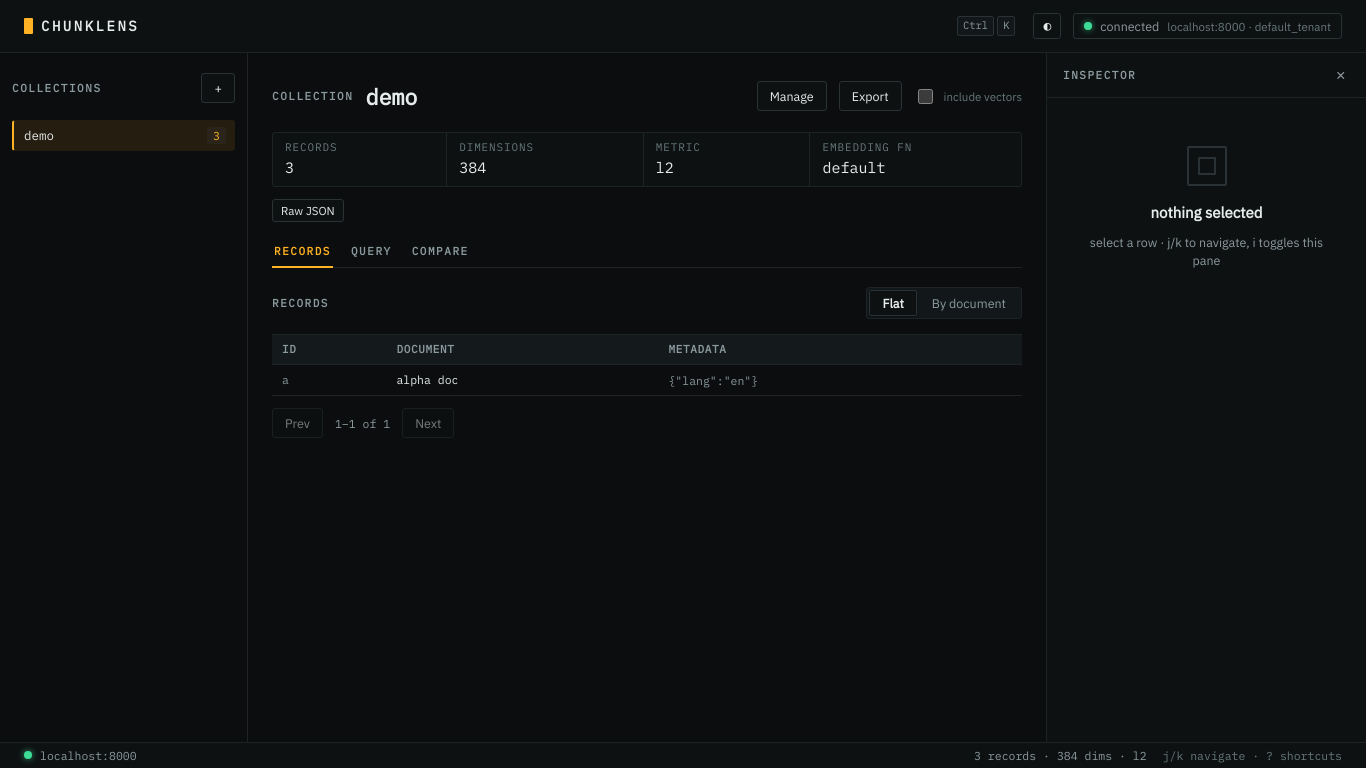
Scenario: switching the connection clears caches and returns home
This screenshot has width=1366, height=768.
Expected: the heading "demo" is shown, [365,80,417,113]
Click the button "connected localhost:8000 · default_tenant" at (1208, 26), box [1073,13,1342,39]
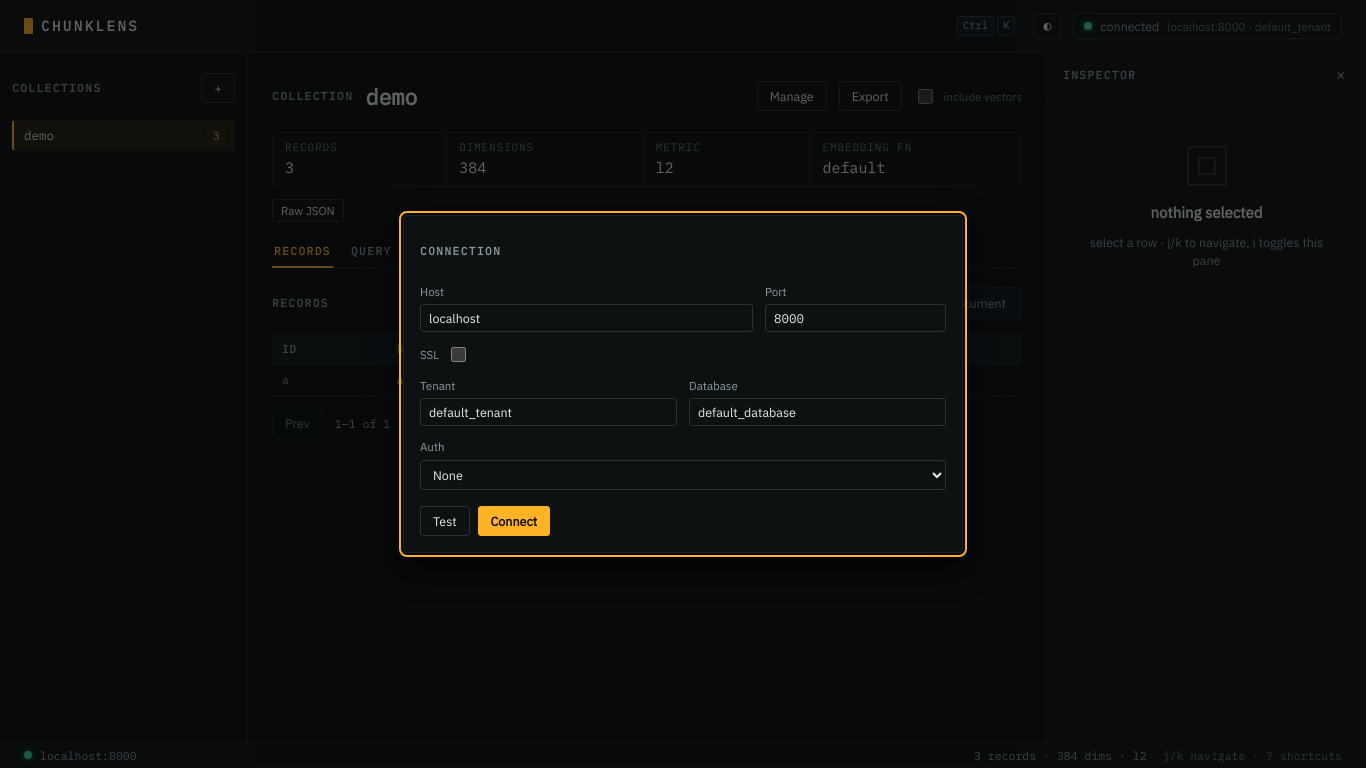
Expected: the dialog named "connection settings" is shown, [403,215,963,553]
Click the button "Connect" at (514, 521), box [478,506,550,536]
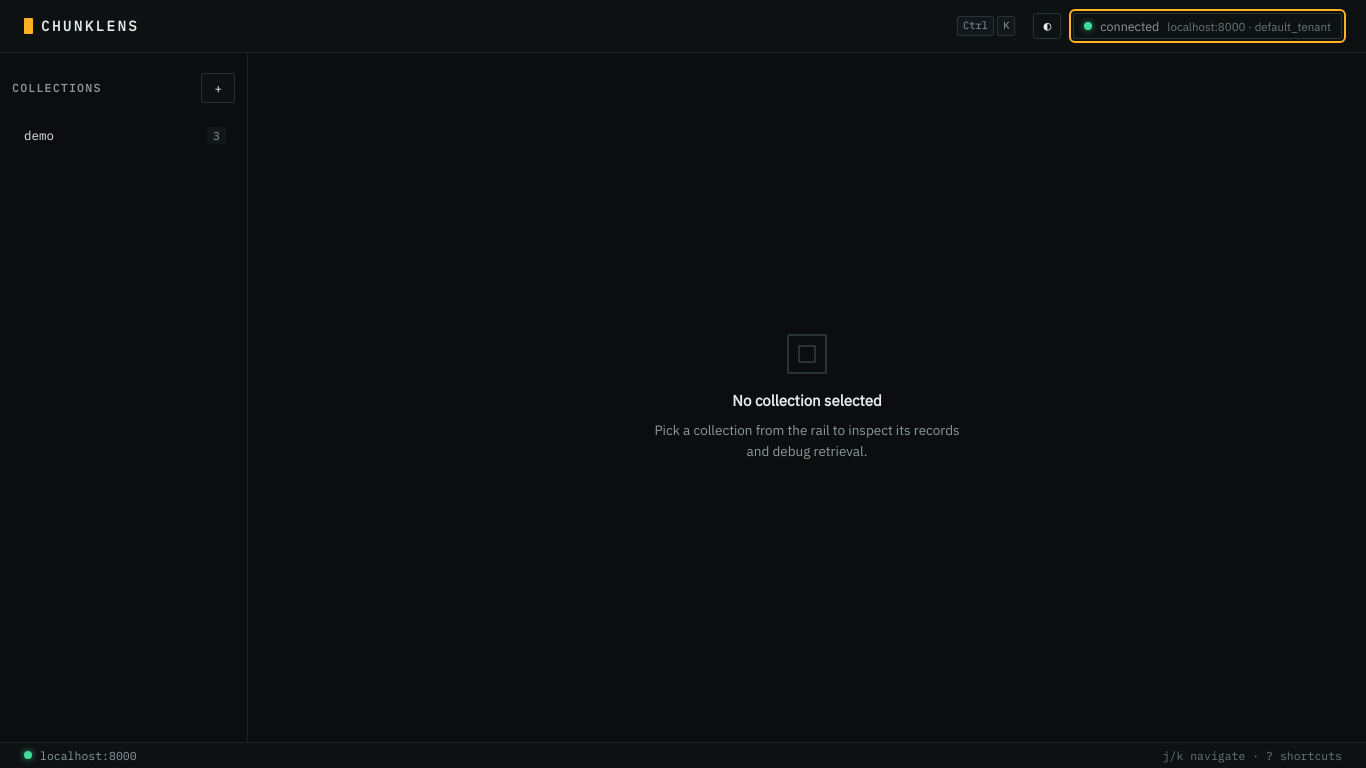
Expected: the text "No collection selected" is shown, [732,390,882,412]
